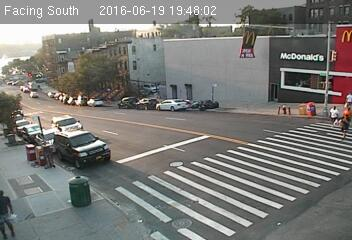neg: (37, 143, 55, 167), (23, 142, 37, 161), (4, 129, 17, 146), (147, 78, 158, 93), (34, 70, 43, 81)
pos: (334, 116, 351, 141), (325, 104, 341, 126), (343, 102, 351, 117), (344, 90, 351, 102)
